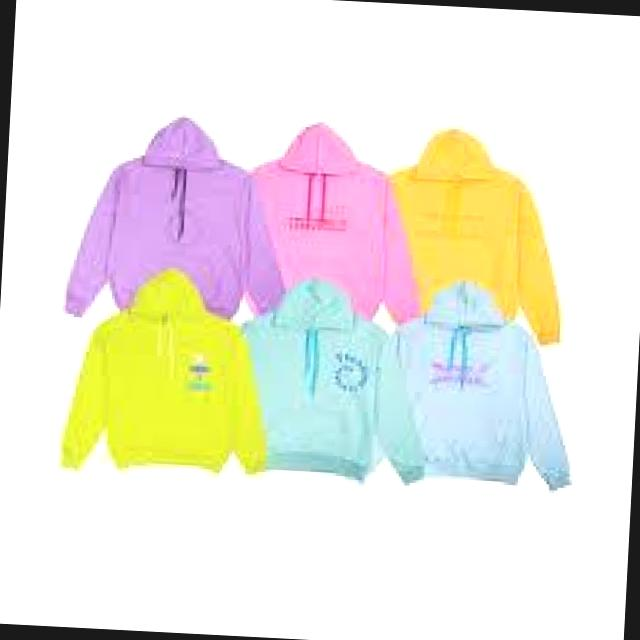sweater: (62, 268, 266, 481), (384, 271, 577, 488), (69, 106, 275, 308), (391, 125, 572, 330)
